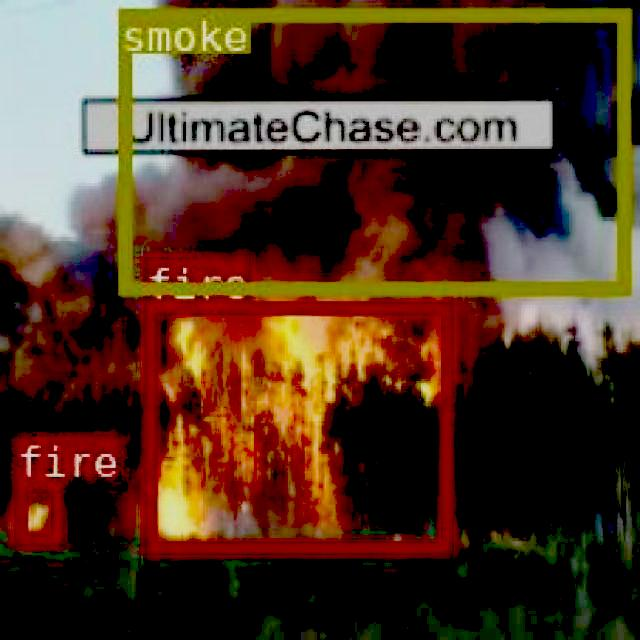fire: (140, 301, 448, 550), (12, 479, 61, 544)
smoke: (116, 5, 629, 293)
